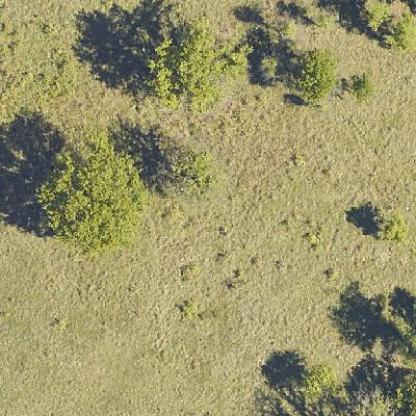tree-top: (37, 139, 152, 254), (132, 12, 247, 110), (155, 140, 211, 198), (292, 45, 343, 100), (363, 0, 415, 53), (291, 356, 337, 404), (374, 209, 411, 247), (348, 73, 374, 102)
